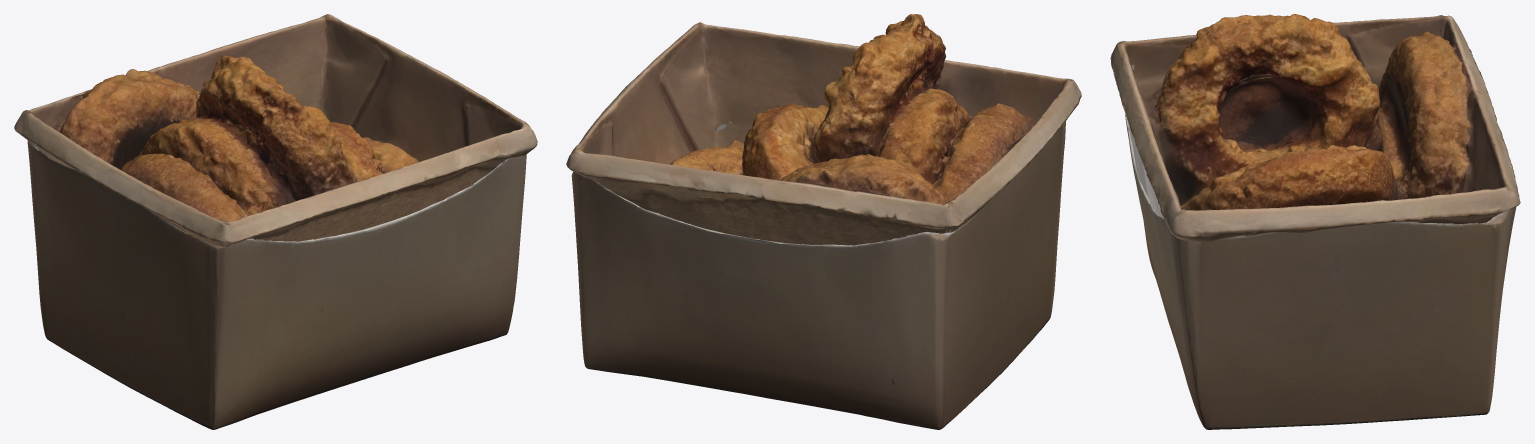
File: onion.01.glb
3 views of the same model, side by side, from view 1: azimuth 30°, elevation 25°; view 2: azimuth 150°, elevation 25°; view 3: azimuth 270°, elevation 25° (orthographic). The views are drawn at different scales.
Parts seen in each view (by area): view 1: /Root/Scenes/Scene/Object_37/Object_41/Object_42/Submesh_0, /Root/Scenes/Scene/Object_37/Object_38/Submesh_0; view 2: /Root/Scenes/Scene/Object_37/Object_41/Object_42/Submesh_0, /Root/Scenes/Scene/Object_37/Object_38/Submesh_0; view 3: /Root/Scenes/Scene/Object_37/Object_38/Submesh_0, /Root/Scenes/Scene/Object_37/Object_41/Object_42/Submesh_0.
Boxes of the visible parts, box(x1,y1,x2,y2) form: /Root/Scenes/Scene/Object_37/Object_41/Object_42/Submesh_0: box(27, 140, 526, 429); /Root/Scenes/Scene/Object_37/Object_38/Submesh_0: box(14, 14, 537, 247); /Root/Scenes/Scene/Object_37/Object_41/Object_42/Submesh_0: box(571, 121, 1065, 429); /Root/Scenes/Scene/Object_37/Object_38/Submesh_0: box(566, 14, 1081, 245); /Root/Scenes/Scene/Object_37/Object_38/Submesh_0: box(1110, 14, 1520, 241); /Root/Scenes/Scene/Object_37/Object_41/Object_42/Submesh_0: box(1125, 65, 1516, 429).
Bounding box in the file's own units: 0.1263 × 0.0912 × 0.1113.
2 materials, 2 textured.
